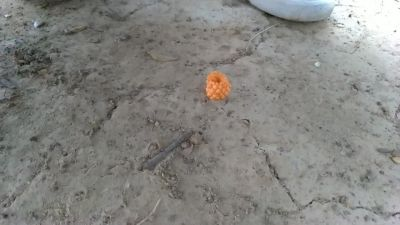eggs: (204, 67, 236, 102)
